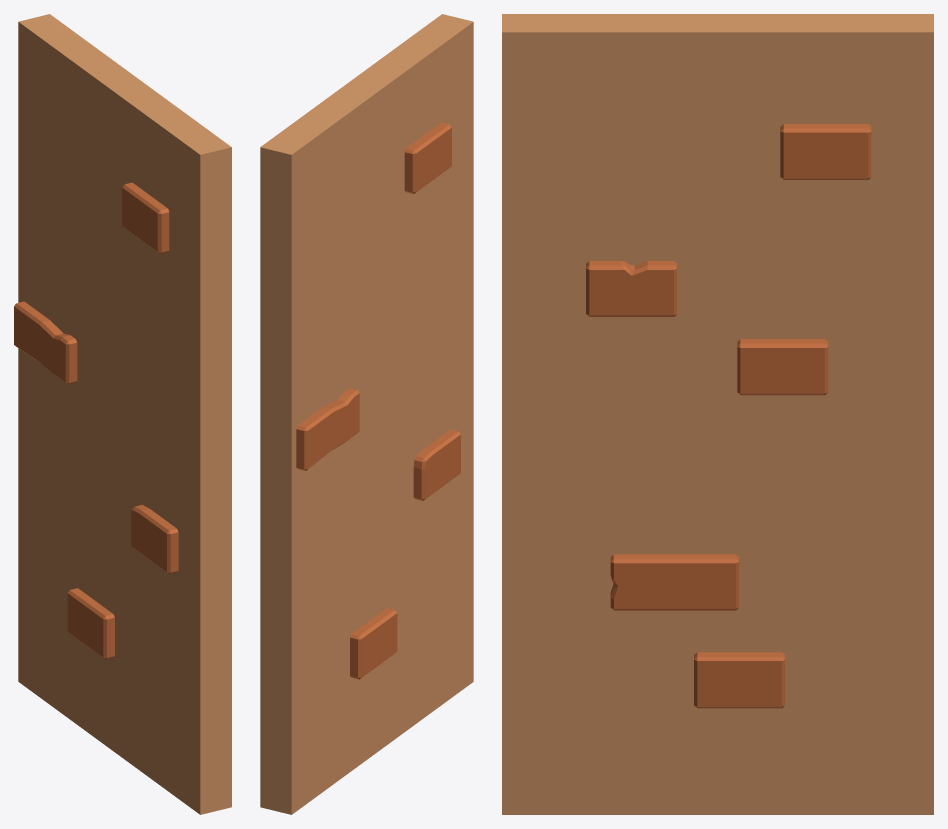
File: SM_Build_ZiegelWand.fbx
3 views of the same model, side by side, from view 1: azimuth 30°, elevation 25°; view 2: azimuth 150°, elevation 25°; view 3: azimuth 270°, elevation 25° (orthographic). The views are drawn at different scales.
Parts seen in each view (by area): view 1: ZiegelWand; view 2: ZiegelWand; view 3: ZiegelWand.
Boxes of the visible parts, x1,y1,x2,y2 form: ZiegelWand: (14,14,231,814); ZiegelWand: (260,14,473,814); ZiegelWand: (502,14,933,814).
Bounding box in the file's own units: 0.331 × 4 × 2.
